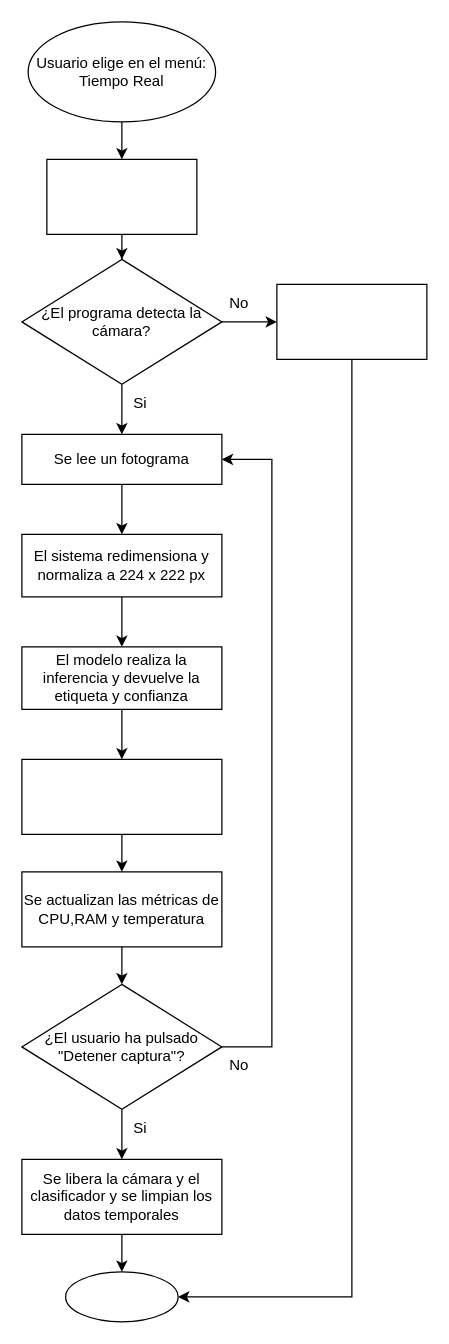
Image size: 449x1344. Some labels were removed from this diagram. Here are the shapes that lost their labels. From the top down, the box of each, then its label:
(46, 158, 197, 234): Pulsa botón abrir cámara
(276, 283, 427, 359): Informamos al usuario y el flujo termina
(21, 758, 222, 834): Se superponen en el fotograma la etiqueta, la confianza y los FPS actuales.
(64, 1271, 178, 1322): Fin
